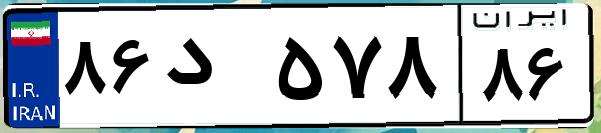5: (270, 28, 330, 110)
6: (525, 38, 570, 115), (110, 28, 158, 98)
7: (330, 28, 385, 110)
8: (385, 28, 445, 110), (57, 26, 110, 100), (475, 38, 525, 113)
د: (158, 20, 270, 120)
